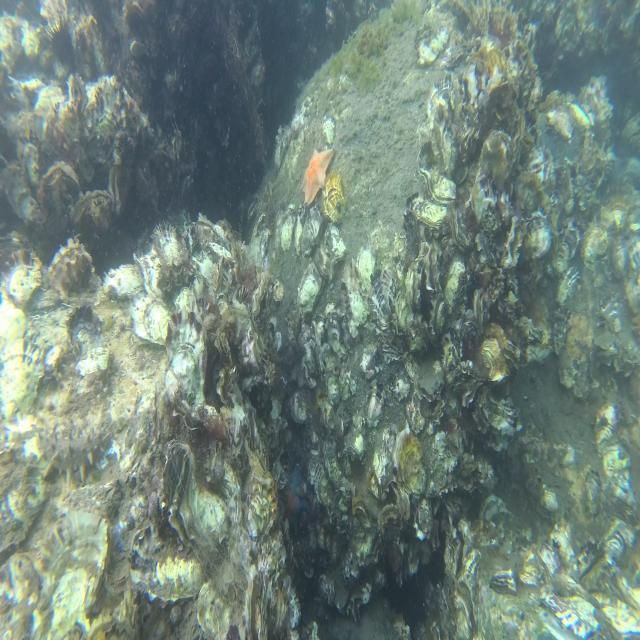echinus: (43, 14, 78, 68)
holothurian: (35, 423, 114, 489)
starfish: (298, 145, 333, 207), (282, 461, 308, 537)
